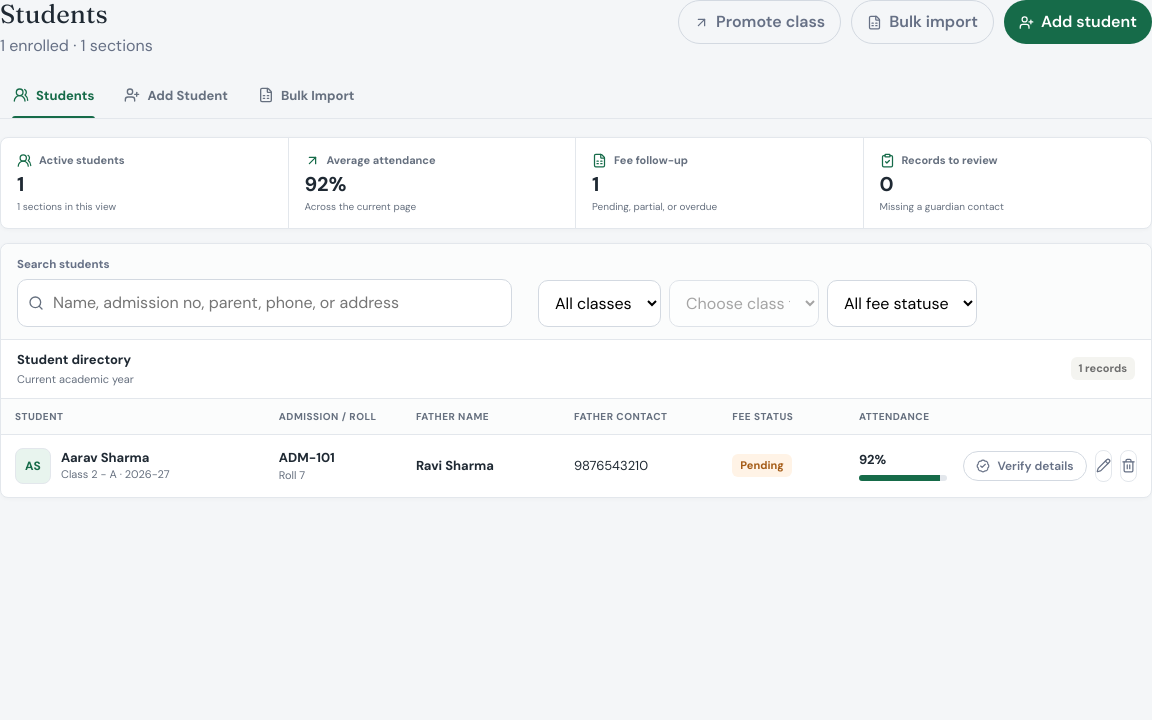
it: StudentsPanel › opens student details from the row and removes the old view action
Click the text "Aarav Sharma" at (576,465), box [1,434,1151,497]
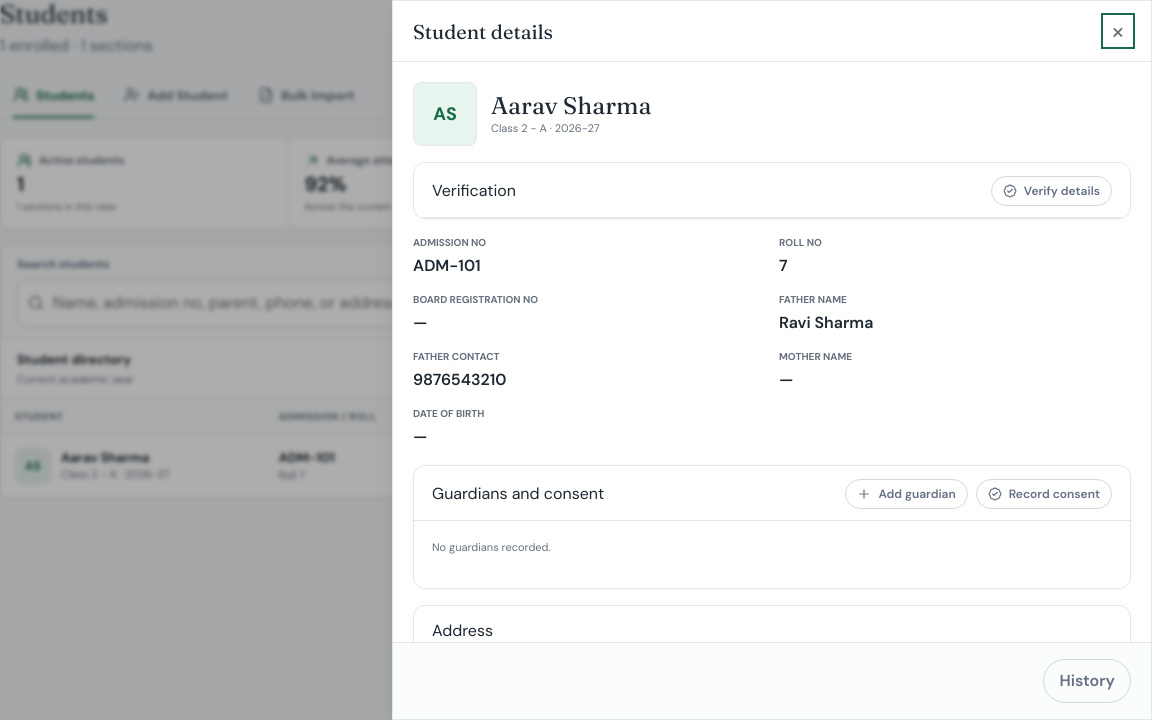
Expected: the text "Student details" is shown, [413,18,553,44]
Expected: the text "Verification" is shown, [432,179,516,203]
